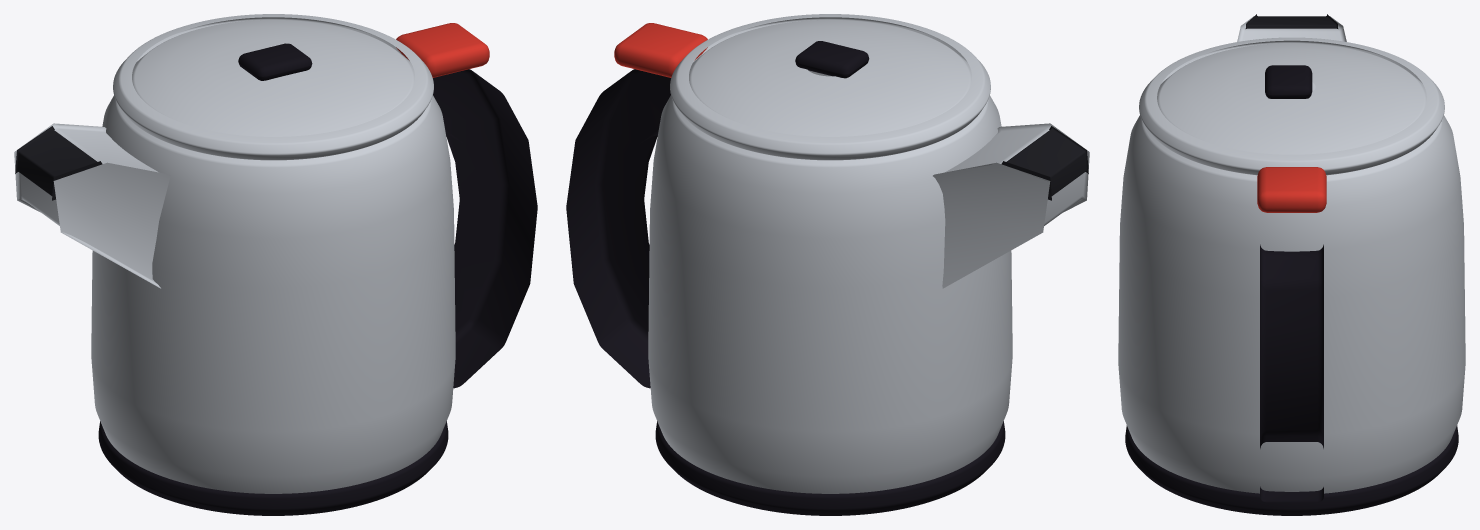
The model's file is ElectricKettle_220x245x245mm.fbx.
3 renders of one model, left to right at view 1: azimuth 30°, elevation 25°; view 2: azimuth 150°, elevation 25°; view 3: azimuth 270°, elevation 25°, orthographic. The views are drawn at different scales.
Parts seen in each view (by area): view 1: Kettle_Body, Kettle_Lid, Kettle_Handle, Kettle_Spout, Kettle_TopRim, Kettle_LowerTrim, Kettle_Switch_Cap, Kettle_SpoutOpening, Kettle_LidButton; view 2: Kettle_Body, Kettle_Lid, Kettle_Handle, Kettle_Spout, Kettle_TopRim, Kettle_LowerTrim, Kettle_Switch_Cap, Kettle_SpoutOpening, Kettle_LidButton; view 3: Kettle_Body, Kettle_Lid, Kettle_Handle, Kettle_TopRim, Kettle_LowerTrim, Kettle_Switch_Cap, Kettle_LidButton, Kettle_Spout, Kettle_SpoutOpening.
Boxes of the visible parts, x1,y1,x2,y2 form: Kettle_Body: (91,95,455,493); Kettle_Lid: (132,20,414,136); Kettle_Handle: (433,69,537,388); Kettle_Spout: (14,123,171,288); Kettle_TopRim: (113,14,433,160); Kettle_LowerTrim: (98,421,448,515); Kettle_Switch_Cap: (396,23,489,77); Kettle_SpoutOpening: (15,126,102,200); Kettle_LidButton: (238,43,312,80); Kettle_Body: (648,70,1012,493); Kettle_Lid: (689,20,971,136); Kettle_Handle: (566,69,670,388); Kettle_Spout: (933,123,1089,288); Kettle_TopRim: (670,14,990,160); Kettle_LowerTrim: (655,421,1005,515); Kettle_Switch_Cap: (614,23,707,77); Kettle_SpoutOpening: (1001,126,1088,200); Kettle_LidButton: (795,41,869,78); Kettle_Body: (1118,115,1465,493); Kettle_Lid: (1157,43,1426,154); Kettle_Handle: (1260,244,1323,502); Kettle_TopRim: (1139,37,1444,175); Kettle_LowerTrim: (1125,425,1458,515); Kettle_Switch_Cap: (1257,167,1326,212); Kettle_LidButton: (1265,65,1312,98); Kettle_Spout: (1237,16,1346,91); Kettle_SpoutOpening: (1245,14,1338,28).
Bounding box in the file's own units: 0.3196 × 0.251 × 0.206.
